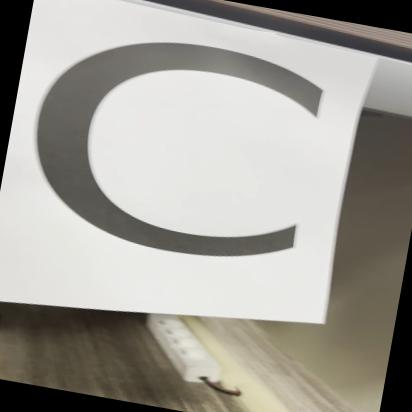seat: (0, 0, 374, 348)
